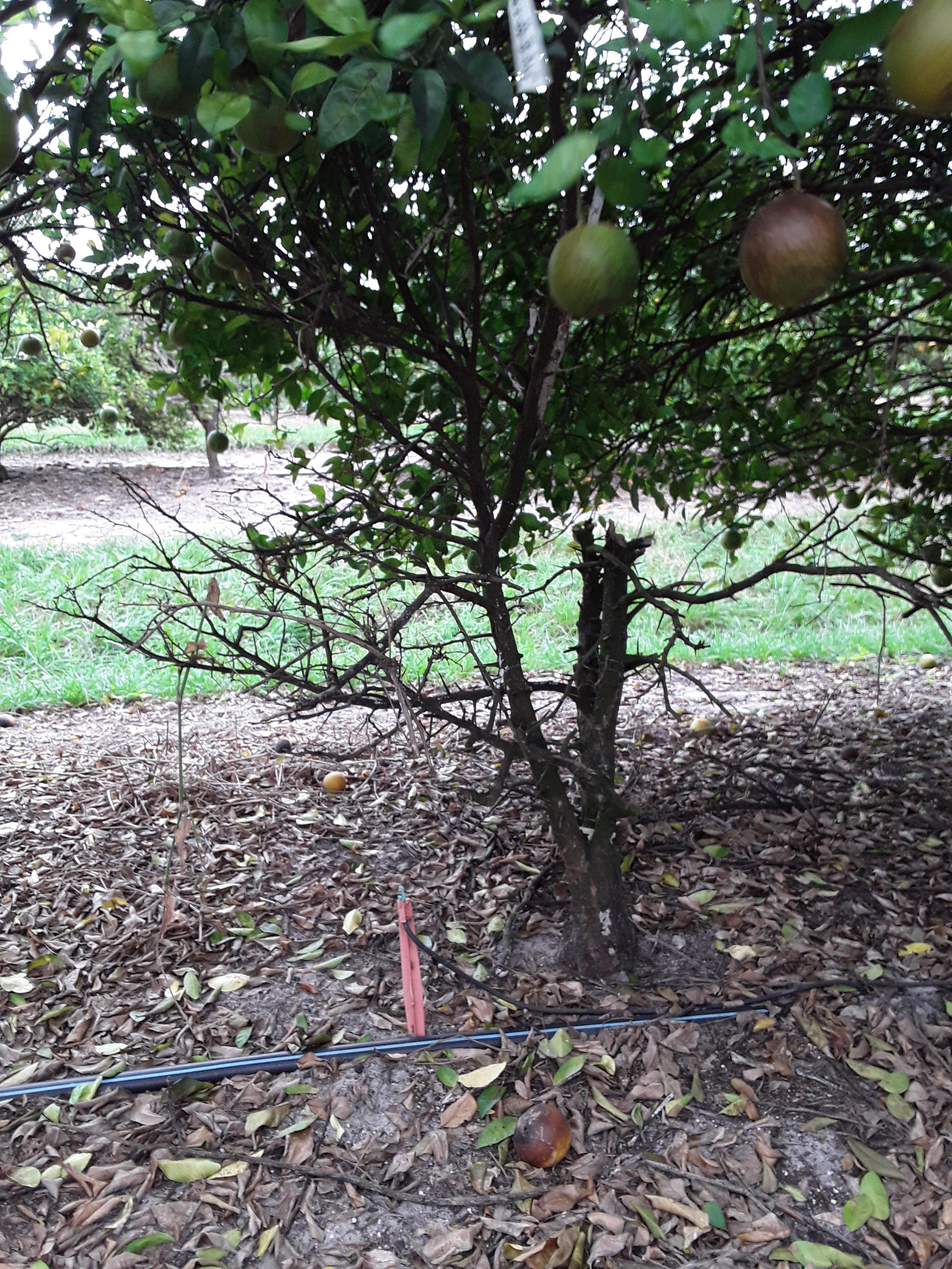fruit_on_ground: (728, 171, 856, 323), (536, 216, 646, 334), (866, 0, 952, 124), (232, 81, 305, 166), (135, 40, 199, 125), (205, 229, 249, 274), (161, 318, 197, 348), (74, 323, 105, 353), (203, 426, 233, 457), (18, 330, 47, 361), (52, 240, 82, 265), (96, 403, 122, 428)
fruit_on_tree: (505, 1099, 576, 1167), (316, 767, 349, 795), (686, 713, 714, 739)
